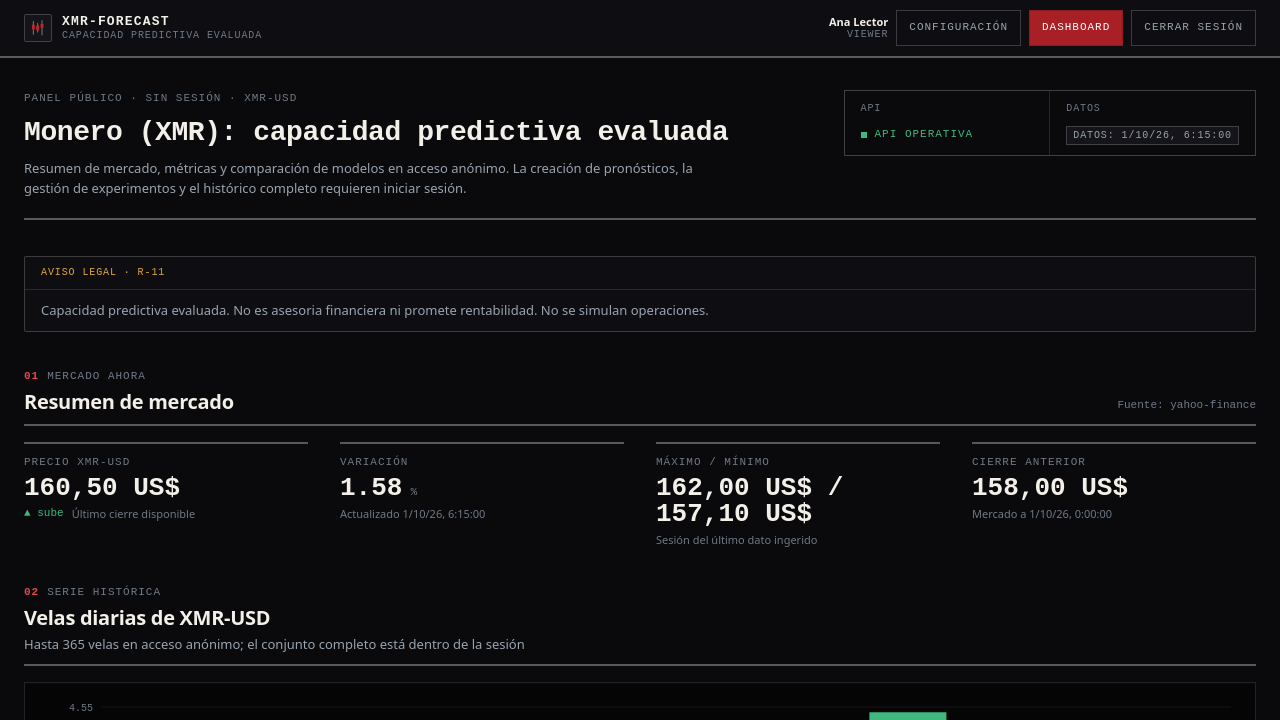
cabecera reactiva › al cerrar sesion vuelve a la vista anonima
Click the button "Cerrar sesión": [1194, 28] box [1131,10,1256,46]
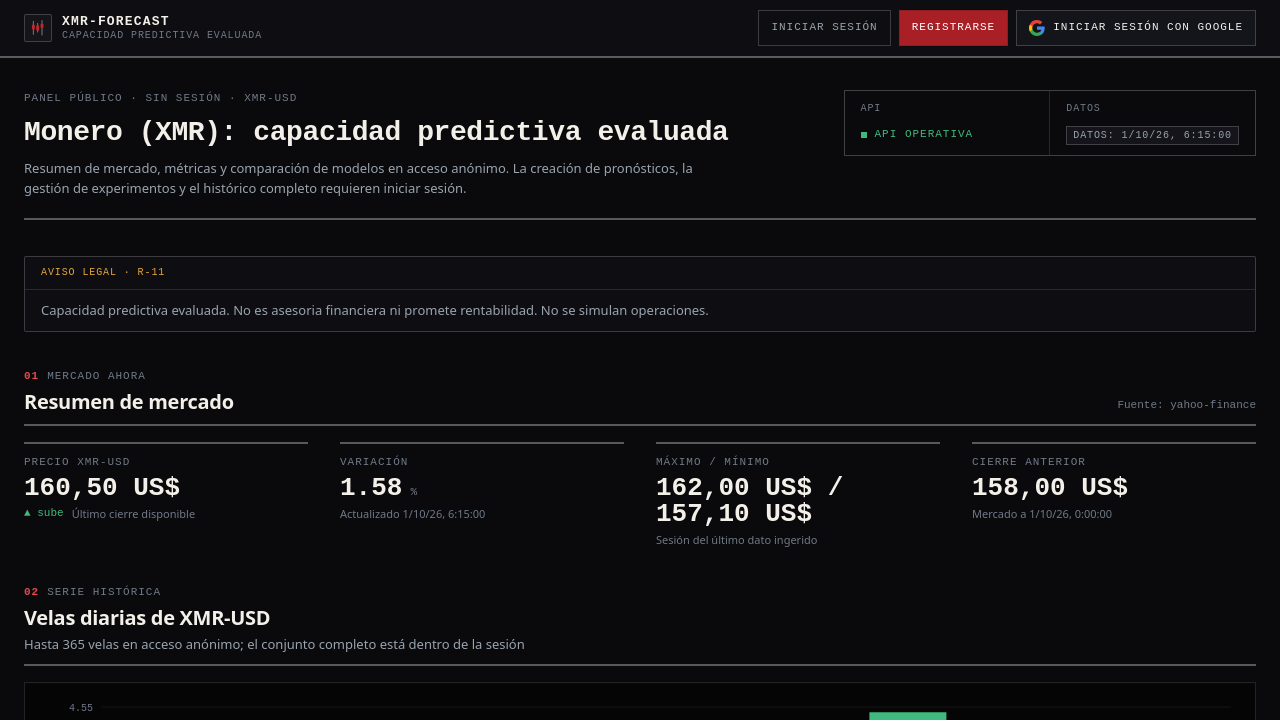
expect the link "Registrarse" is shown: met, box [899,10,1008,46]
